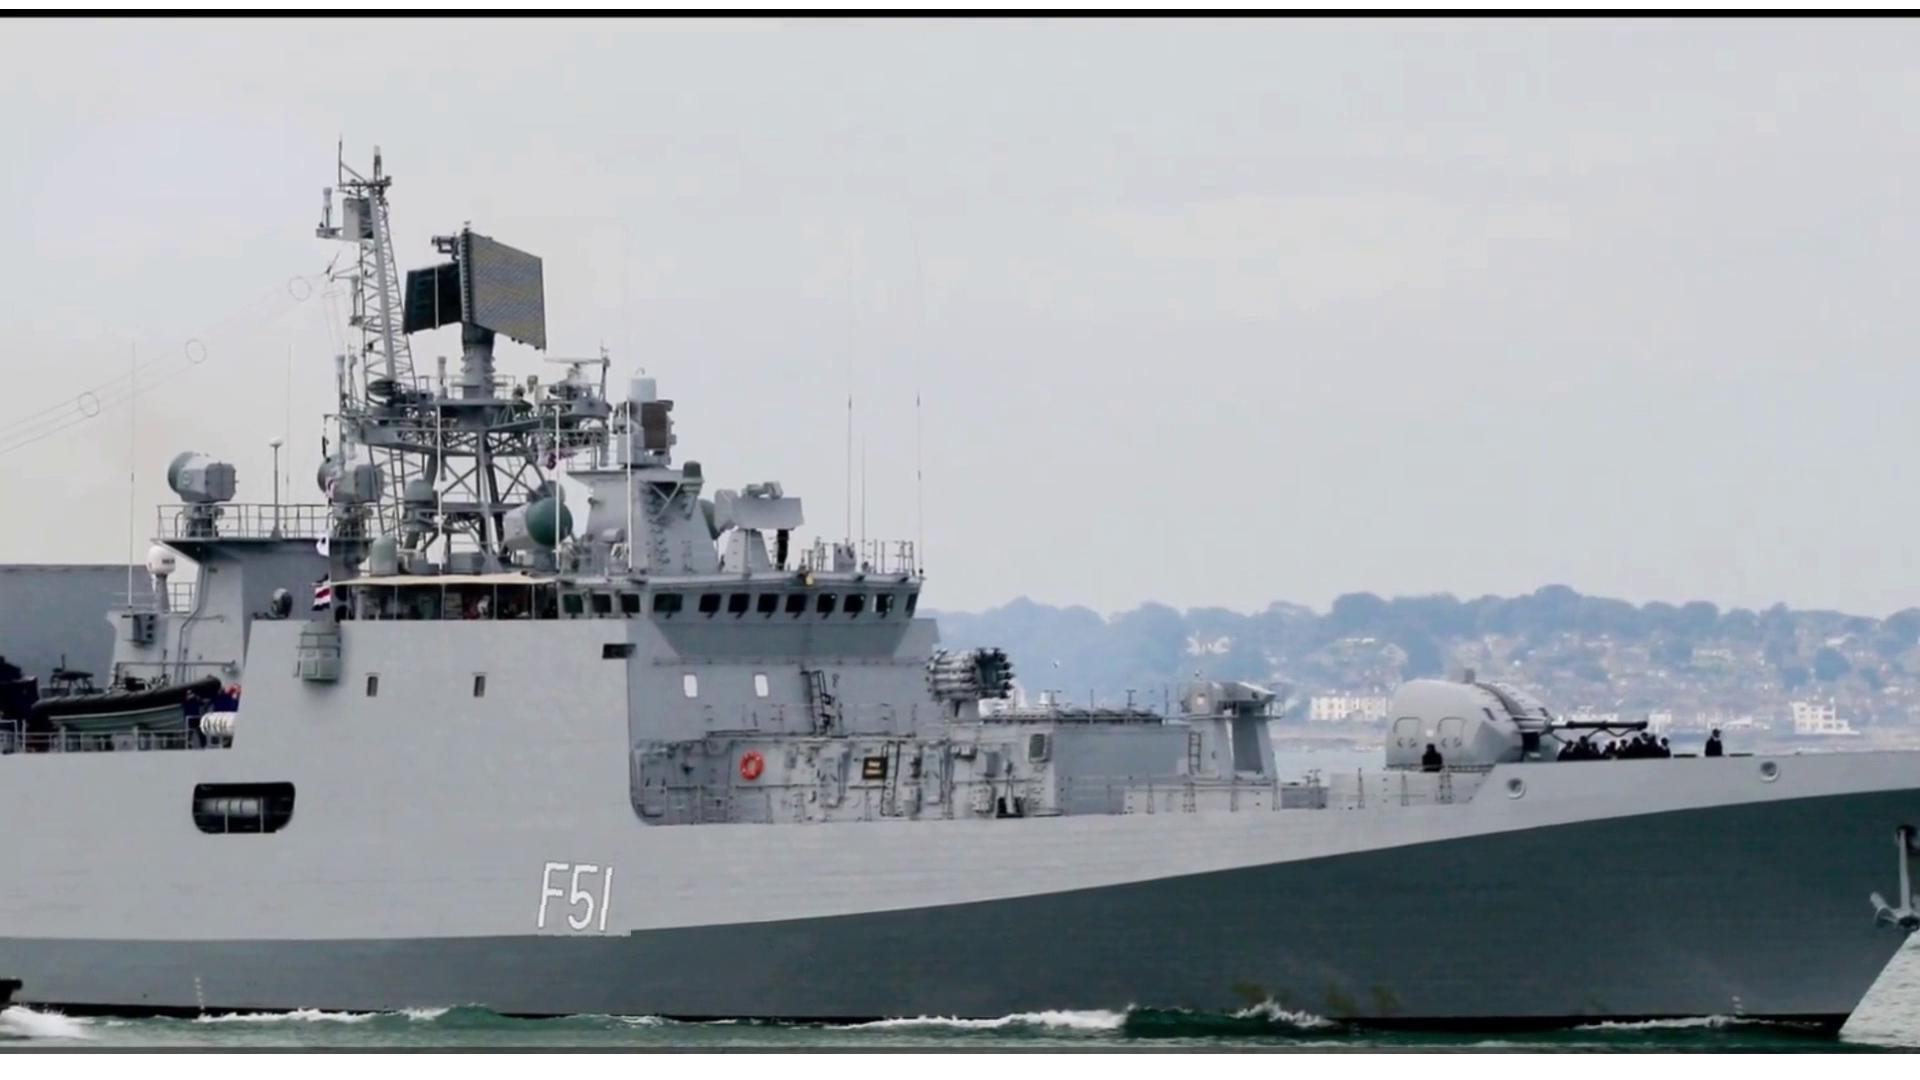OCR: (532, 853, 634, 942)
